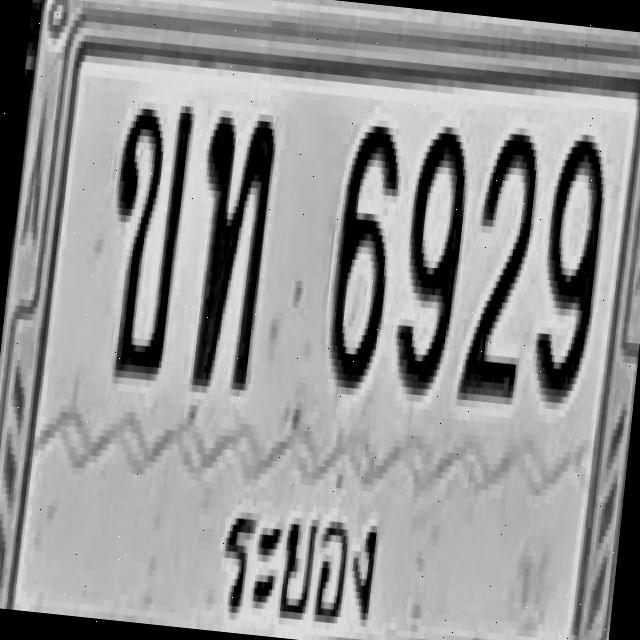11KhorKhai: (96, 96, 194, 378)
2: (458, 124, 542, 404)
32ThorThaHan: (182, 108, 278, 390)
6: (322, 117, 403, 390)
9: (390, 118, 472, 398), (530, 128, 610, 402)
Rayong: (209, 471, 390, 640)
